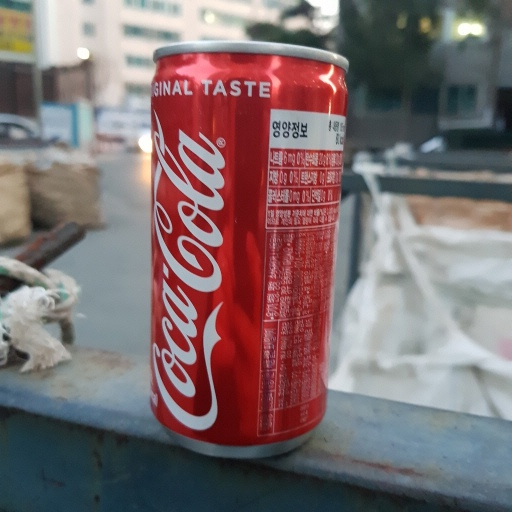Metal_0: (148, 39, 351, 461)
